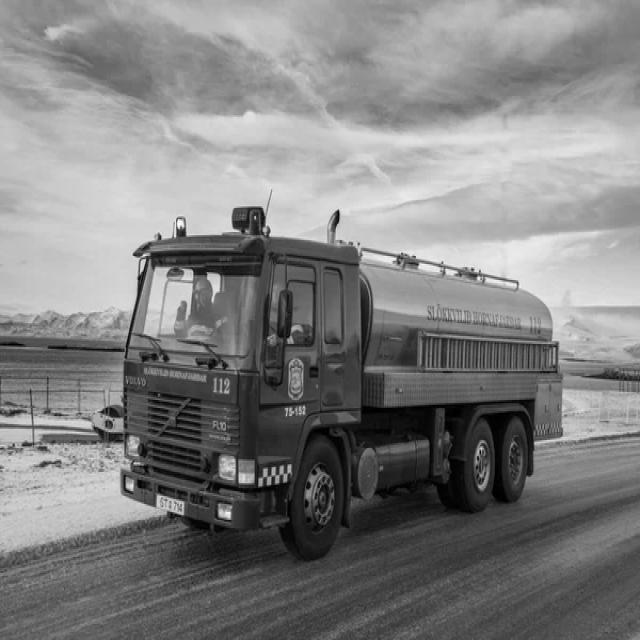Truck: (121, 206, 564, 561)
